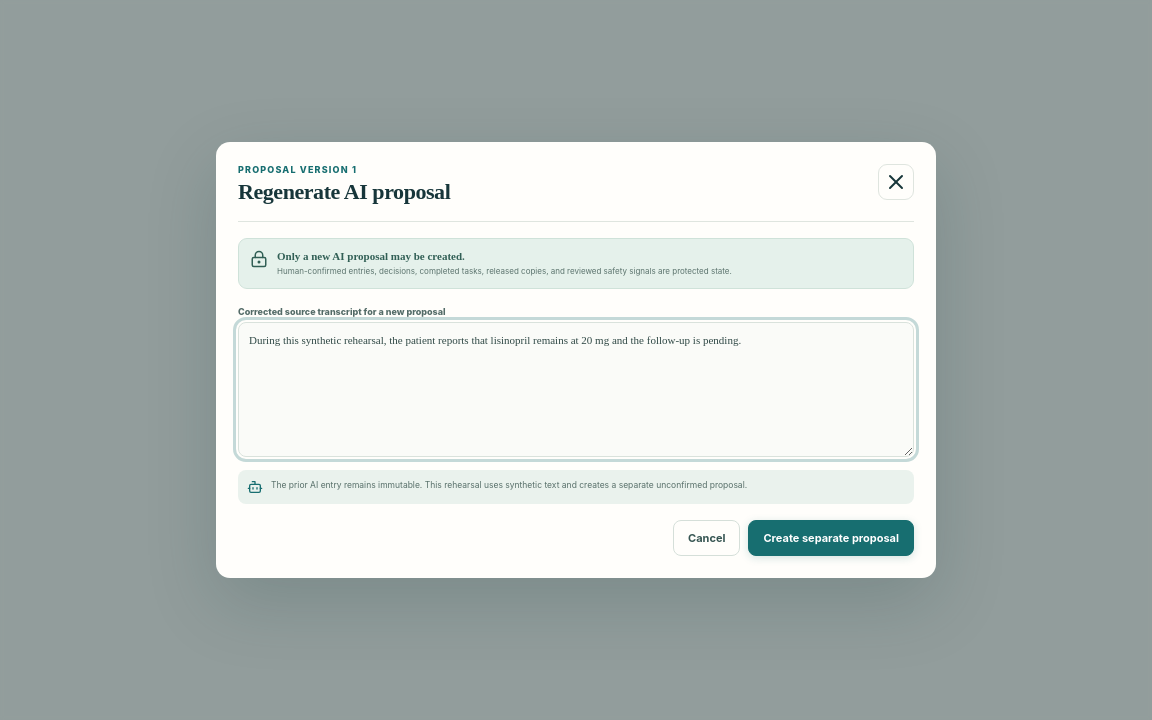
regeneration shows a protected-state receipt rather than replacing the prior entry
This screenshot has width=1152, height=720.
Expected: the text "Only a new AI proposal may be created." is shown, x1=277 y1=250 x2=465 y2=262
Click the button "Create separate proposal".
click(831, 538)  # box x1=748 y1=520 x2=914 y2=556
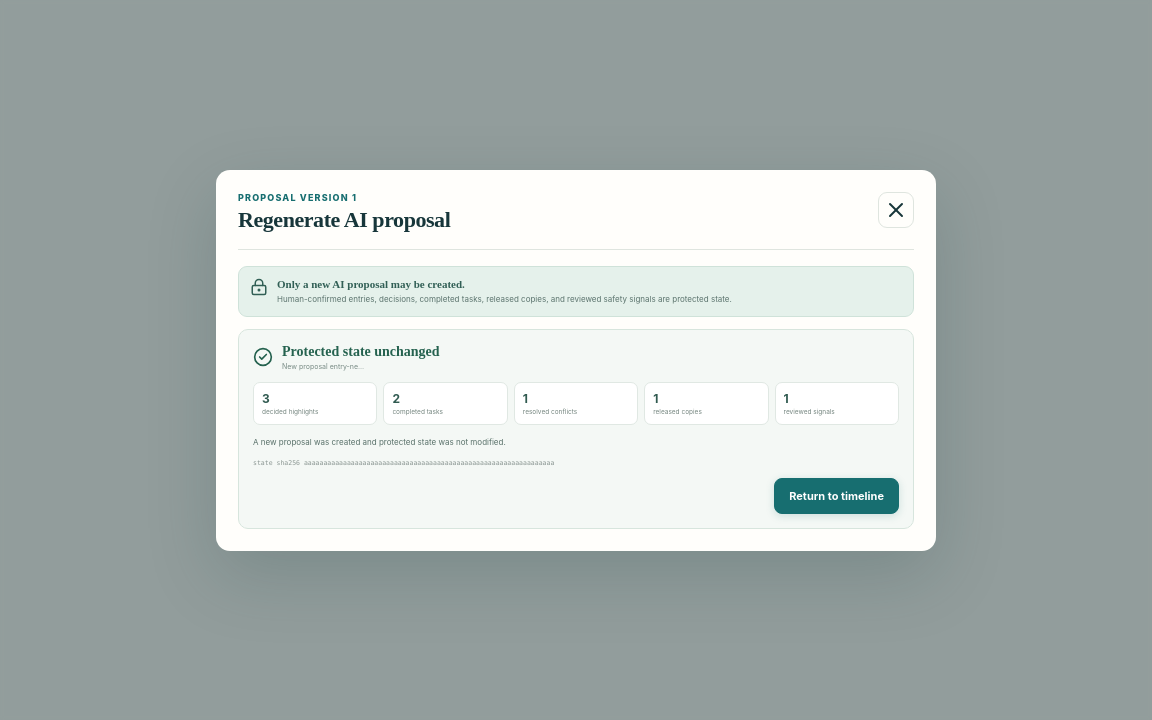
Expected: the text "Protected state unchanged" is shown, x1=282 y1=344 x2=440 y2=360
Expected: the text "3" is shown, x1=262 y1=390 x2=270 y2=406
Expected: the button "Return to timeline" is shown, x1=774 y1=478 x2=899 y2=514
